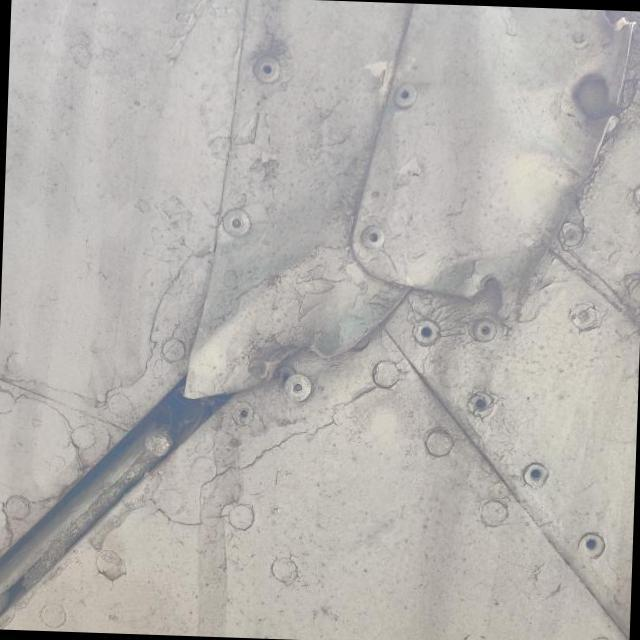Rupture: (252, 329, 331, 390)
